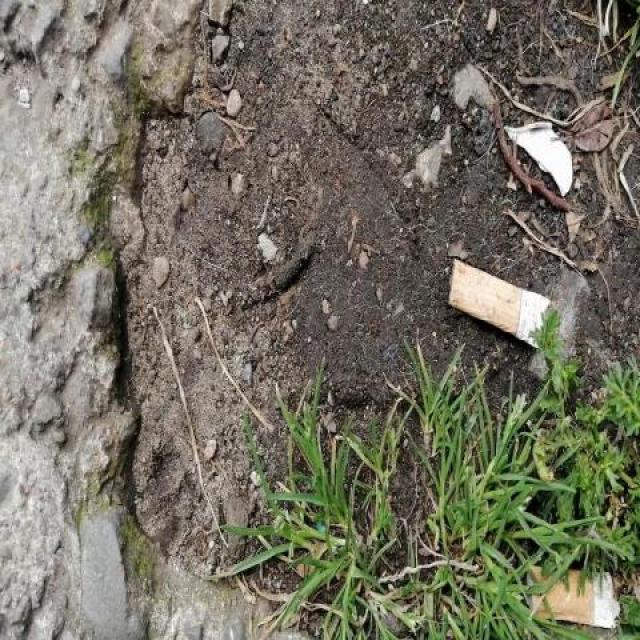non-organic waste: (444, 254, 556, 353), (521, 558, 624, 634)
